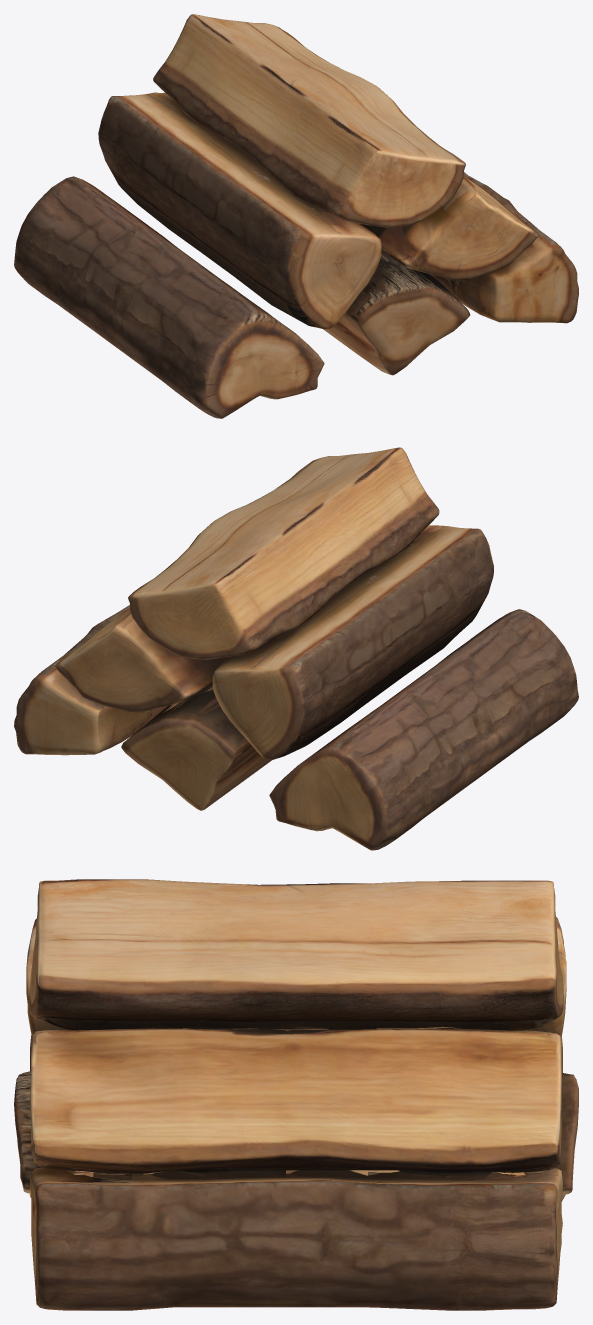
Rendered from DM_Firewood.fbx.
3 renders of one model, top to bottom at view 1: azimuth 30°, elevation 25°; view 2: azimuth 150°, elevation 25°; view 3: azimuth 270°, elevation 25°, orthographic. The views are drawn at different scales.
Parts seen in each view (by area): view 1: Mesh_0; view 2: Mesh_0; view 3: Mesh_0.
Boxes of the visible parts, x1,y1,x2,y2 form: Mesh_0: [14, 14, 578, 418]; Mesh_0: [14, 447, 578, 850]; Mesh_0: [14, 879, 578, 1310].
Size of the model in its own units: 43.02 by 25 by 40.19.
1 material, 1 textured.
